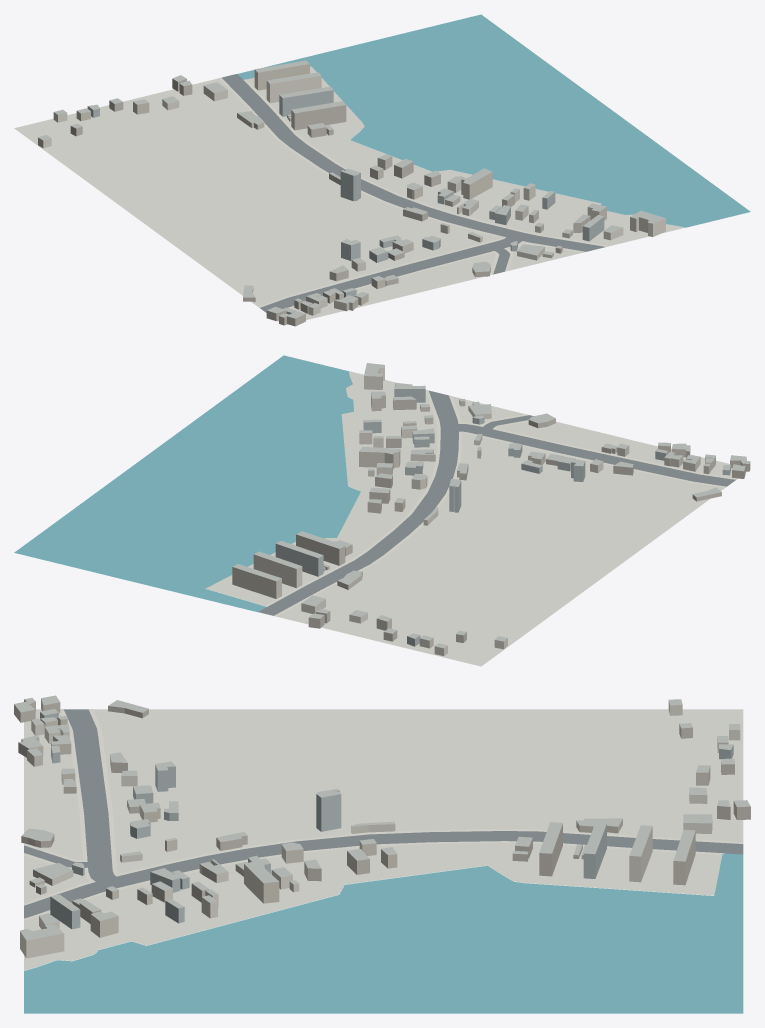
The picture shows the model from 3 angles, top to bottom: view 1: azimuth 30°, elevation 25°; view 2: azimuth 150°, elevation 25°; view 3: azimuth 270°, elevation 25°; orthographic projection. The views are drawn at different scales.
Visible parts, largest first — view 1: city; view 2: city; view 3: city.
Part boxes in pixels (left/top/right/bottom): city: left=14, top=14, right=750, bottom=326; city: left=14, top=355, right=750, bottom=666; city: left=14, top=695, right=750, bottom=1013.
Bounding box in the file's own units: 506 × 26.38 × 512.
